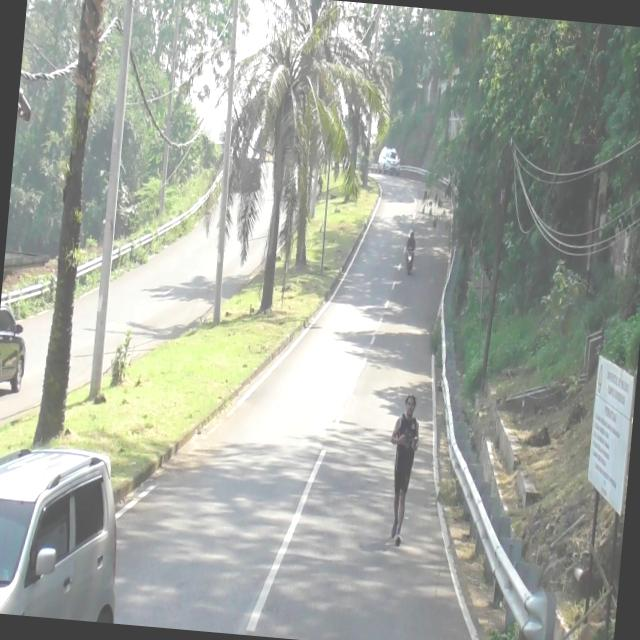motorcycle: (405, 245, 415, 274)
person: (406, 228, 417, 250)
rider_region: (403, 228, 418, 274)
